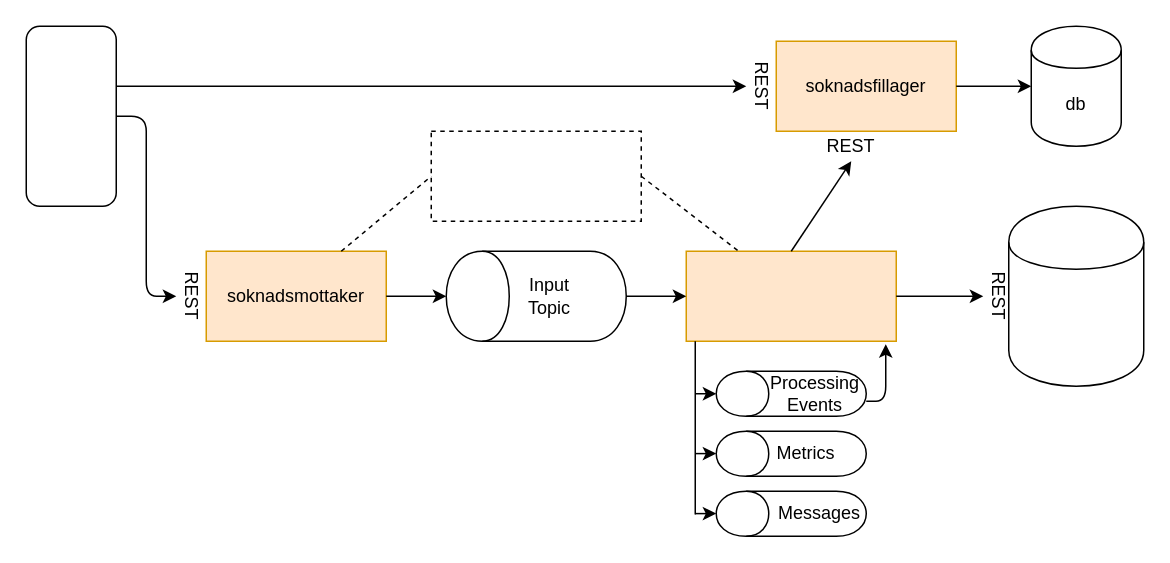
Some shapes in this 1170 by 563 pixel diagram are drawn without their labels. The centre of each missing label's shape, as x and y in pixels:
External systems: pixel 70 115
Joark: pixel 1075 295
Schema Registry / soknadarkiv-schema: pixel 535 175
soknadsarkiverer: pixel 790 295
